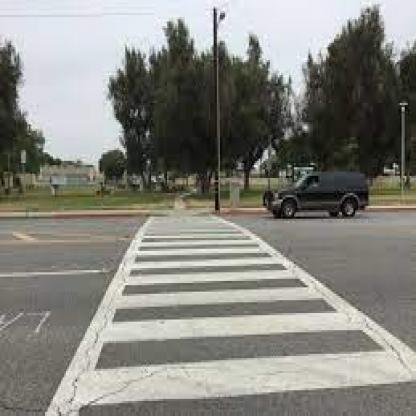Crosswalk: (46, 210, 416, 416)
